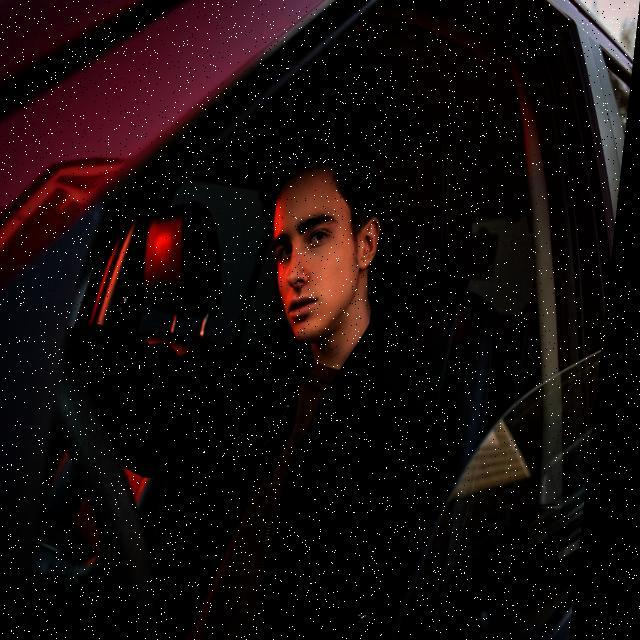noSeatbelt: (146, 331, 488, 640)
